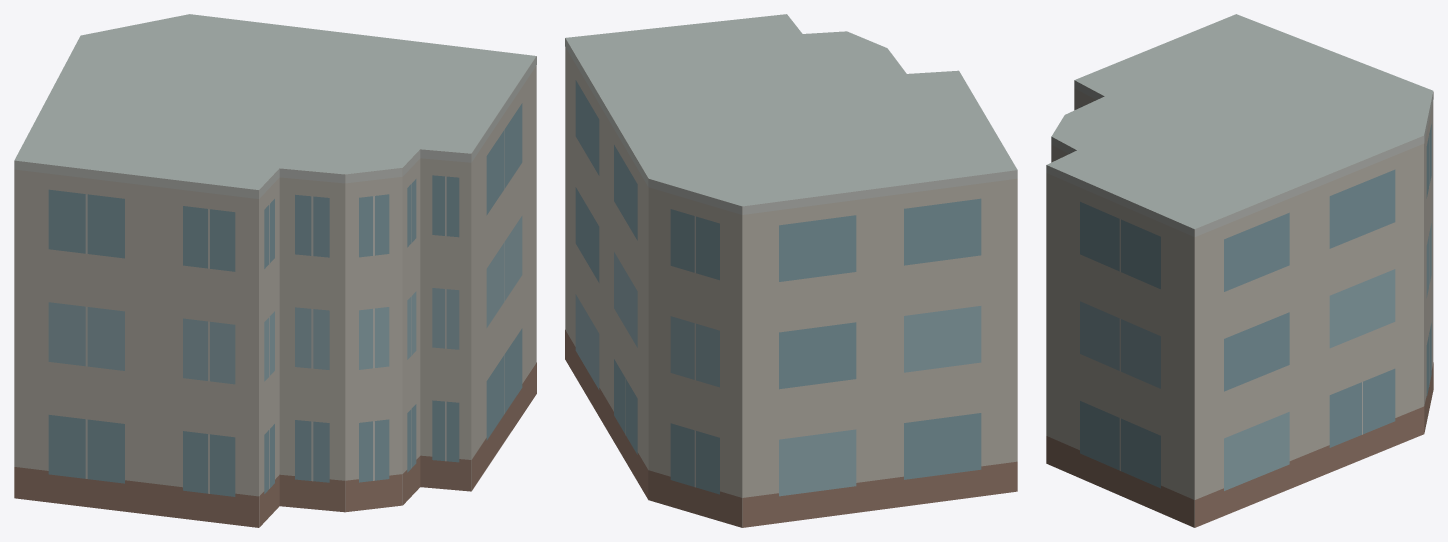
Rendered from survey-upis-32703316.glb.
3 renders of one model, left to right at view 1: azimuth 30°, elevation 25°; view 2: azimuth 150°, elevation 25°; view 3: azimuth 270°, elevation 25°, orthographic. The views are drawn at different scales.
Visible parts, largest first — view 1: survey-upis-32703316.tmp; view 2: survey-upis-32703316.tmp; view 3: survey-upis-32703316.tmp.
Boxes of the visible parts, bbox=[...] form: survey-upis-32703316.tmp: bbox=[14, 14, 536, 527]; survey-upis-32703316.tmp: bbox=[565, 14, 1017, 527]; survey-upis-32703316.tmp: bbox=[1046, 14, 1433, 527].
Size of the model in its own units: 14.16 by 9.15 by 10.76.
